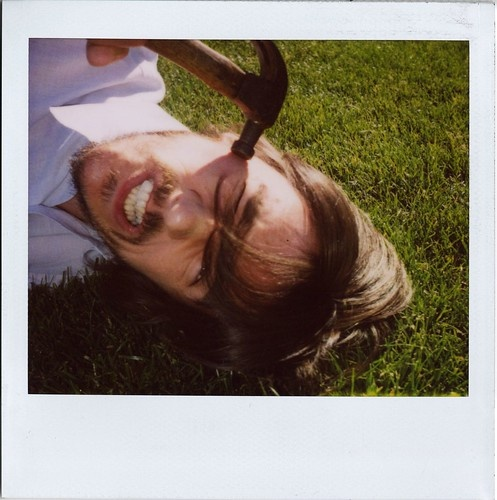hammer: (100, 36, 288, 155)
